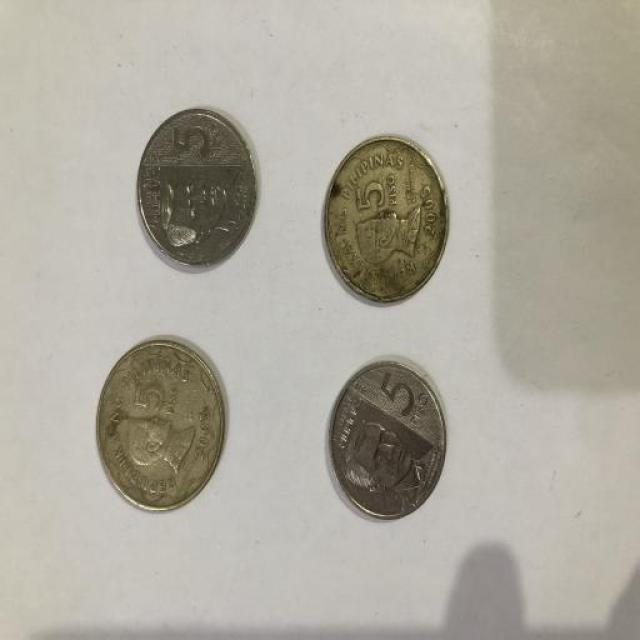5 peso: (130, 94, 266, 280), (323, 347, 452, 530)
5 peso-old: (91, 326, 235, 526), (322, 129, 454, 313)
